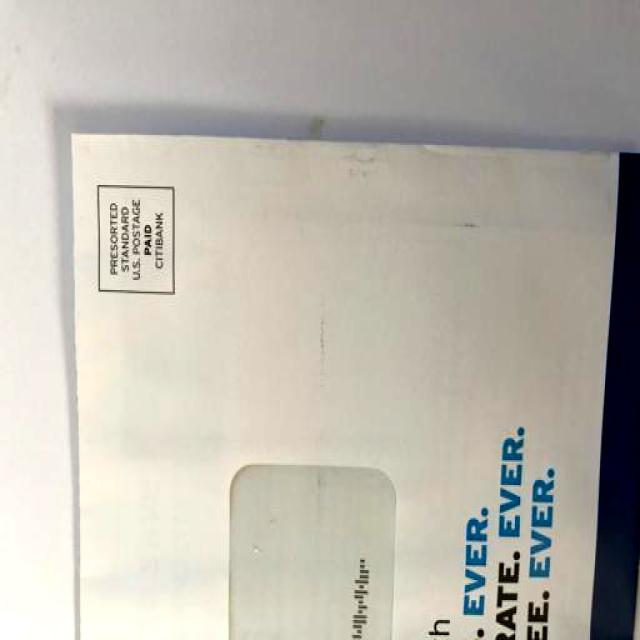Paper: (68, 126, 640, 640)
